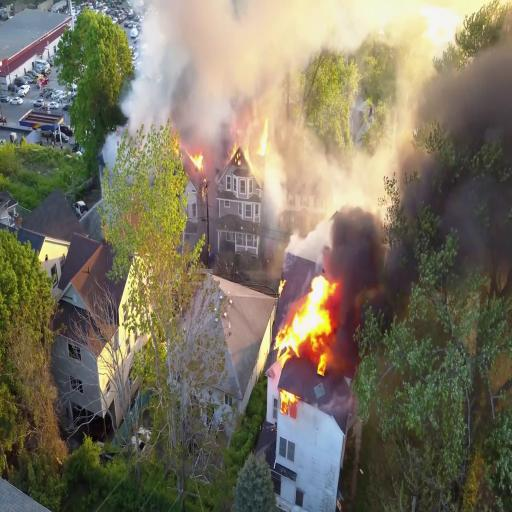fire: (278, 275, 332, 355)
